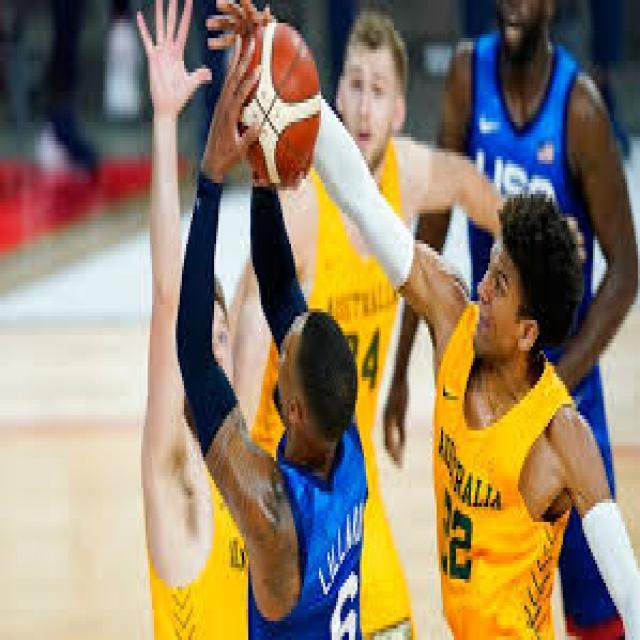basketball: (234, 23, 322, 187)
